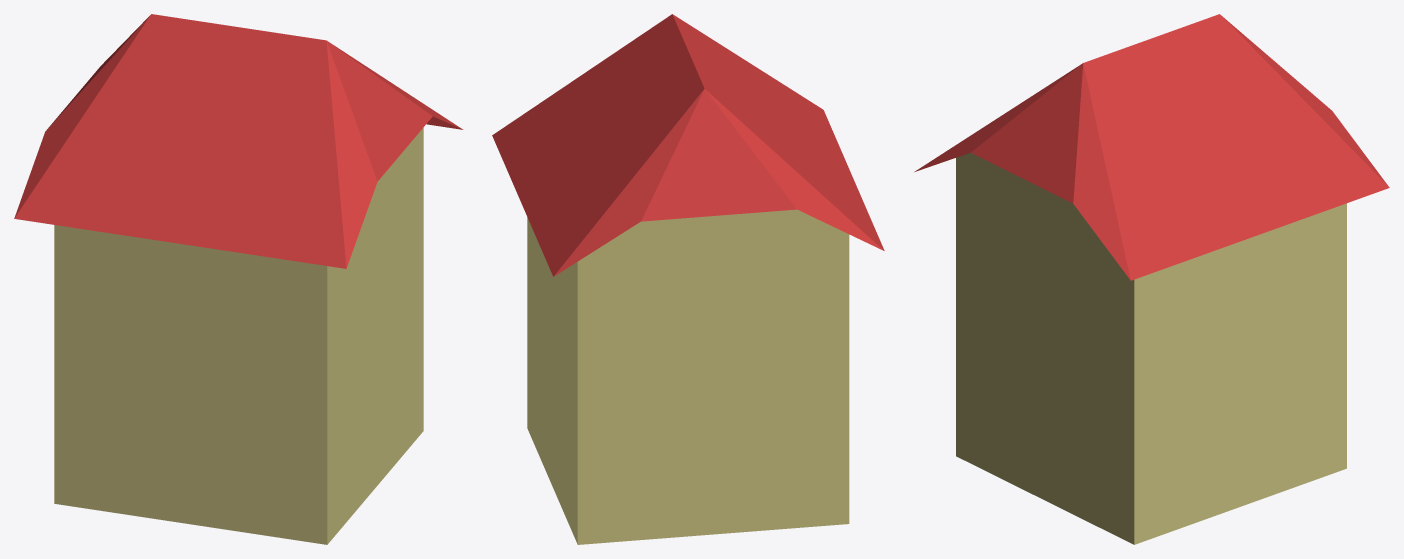
3 renders of one model, left to right at view 1: azimuth 30°, elevation 25°; view 2: azimuth 150°, elevation 25°; view 3: azimuth 270°, elevation 25°, orthographic. The views are drawn at different scales.
Visible parts, largest first — view 1: group_5, group_3, group_4; view 2: group_5, group_3, group_4; view 3: group_5, group_3, group_4.
Boxes of the visible parts, x1,y1,x2,y2 form: group_5: [54, 127, 423, 544]; group_3: [14, 14, 463, 257]; group_4: [14, 47, 431, 268]; group_5: [527, 209, 849, 544]; group_3: [502, 14, 848, 276]; group_4: [492, 75, 884, 276]; group_5: [956, 152, 1346, 544]; group_3: [971, 14, 1389, 279]; group_4: [914, 75, 1389, 280].
Size of the model in its own units: 15.68 by 15.69 by 15.4.
